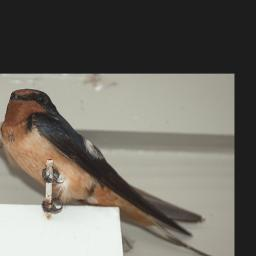Swallow: (1, 88, 229, 256)
